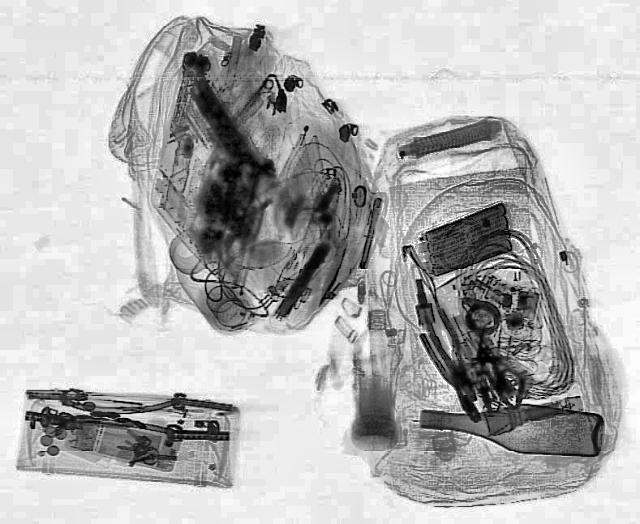Pliers: (418, 304, 487, 403)
